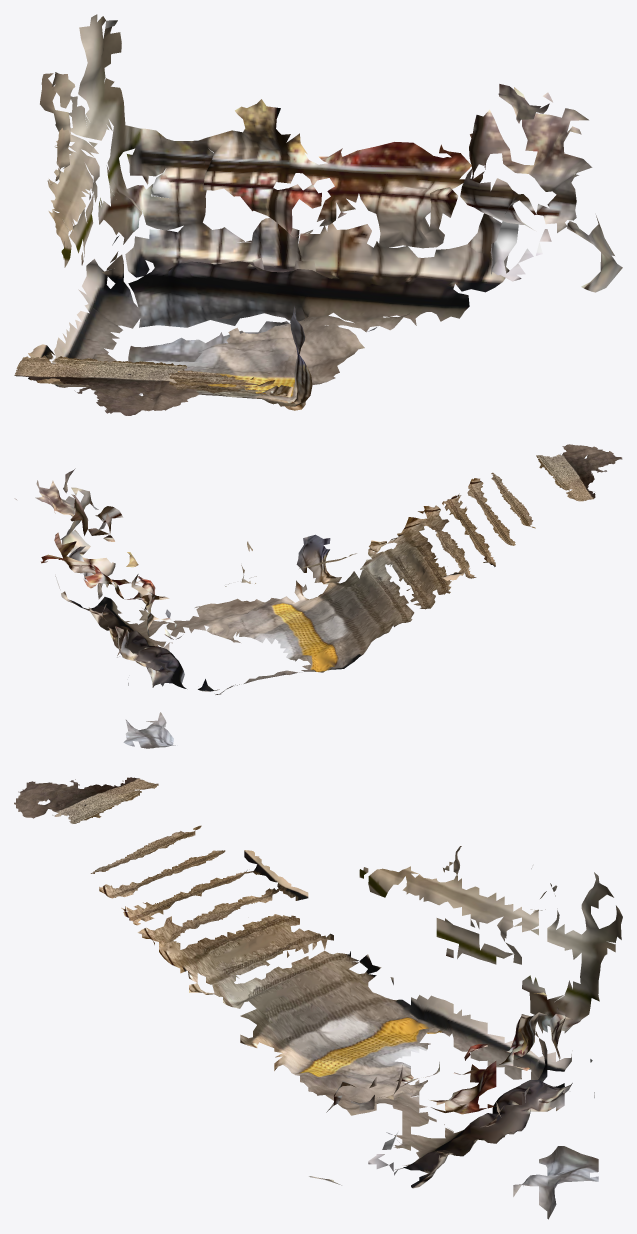
File: 137401-PloyStairs251113-tex.glb
The picture shows the model from 3 angles, top to bottom: view 1: azimuth 30°, elevation 25°; view 2: azimuth 150°, elevation 25°; view 3: azimuth 270°, elevation 25°; orthographic projection. The views are drawn at different scales.
Parts seen in each view (by area): view 1: Node; view 2: Node; view 3: Node.
Boxes of the visible parts, box(x1,y1,x2,y2) form: Node: box(14, 14, 622, 415); Node: box(14, 444, 622, 748); Node: box(14, 777, 622, 1219).
Bounding box in the file's own units: 6.95 × 3.34 × 6.28.
Materials: 1 (1 with a texture image).
